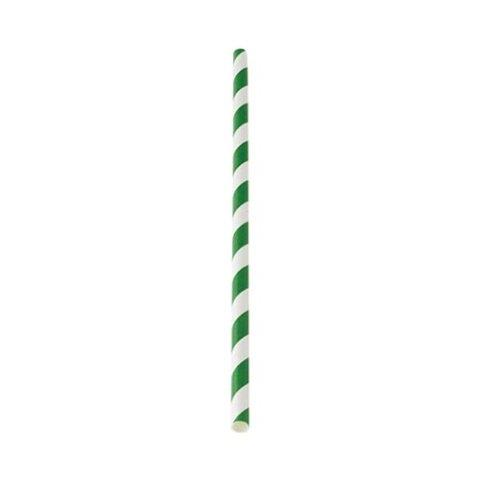sedotan: (233, 48, 249, 430)
